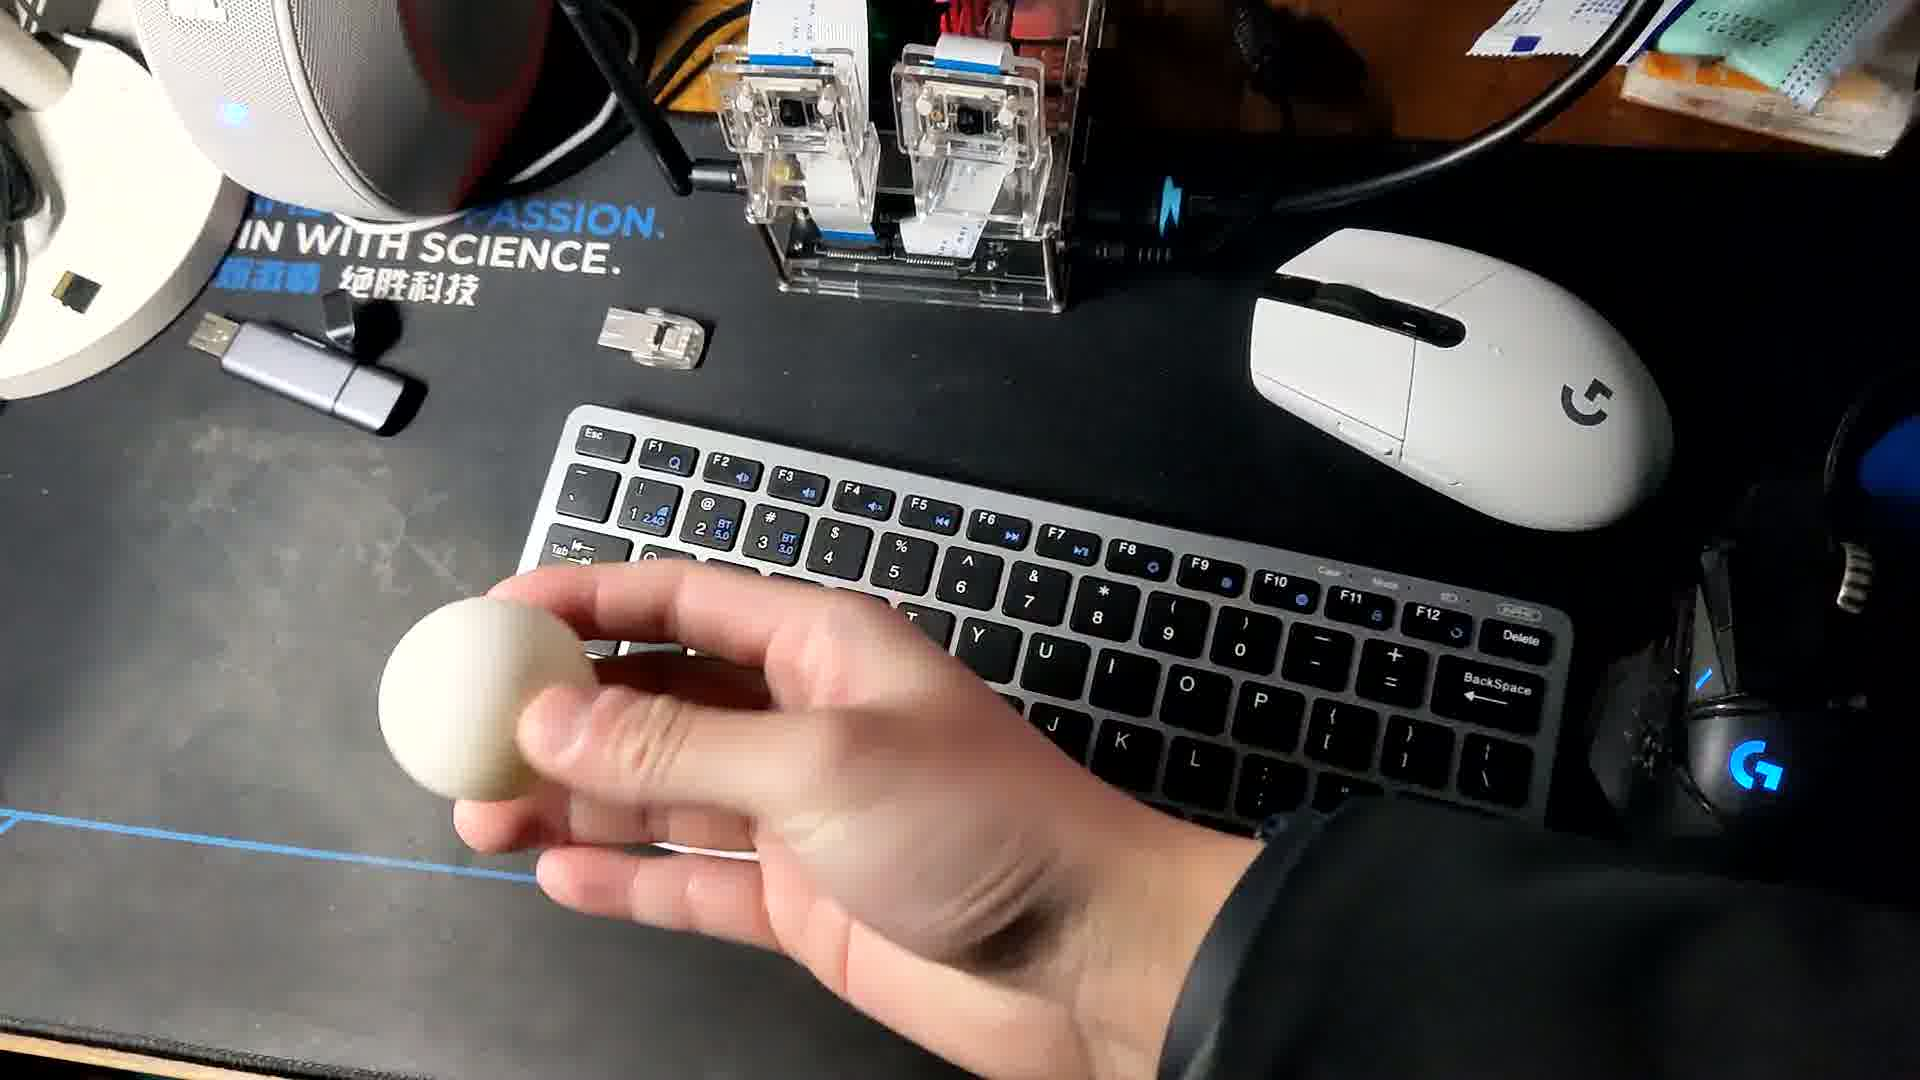Ball: (376, 599, 593, 802)
